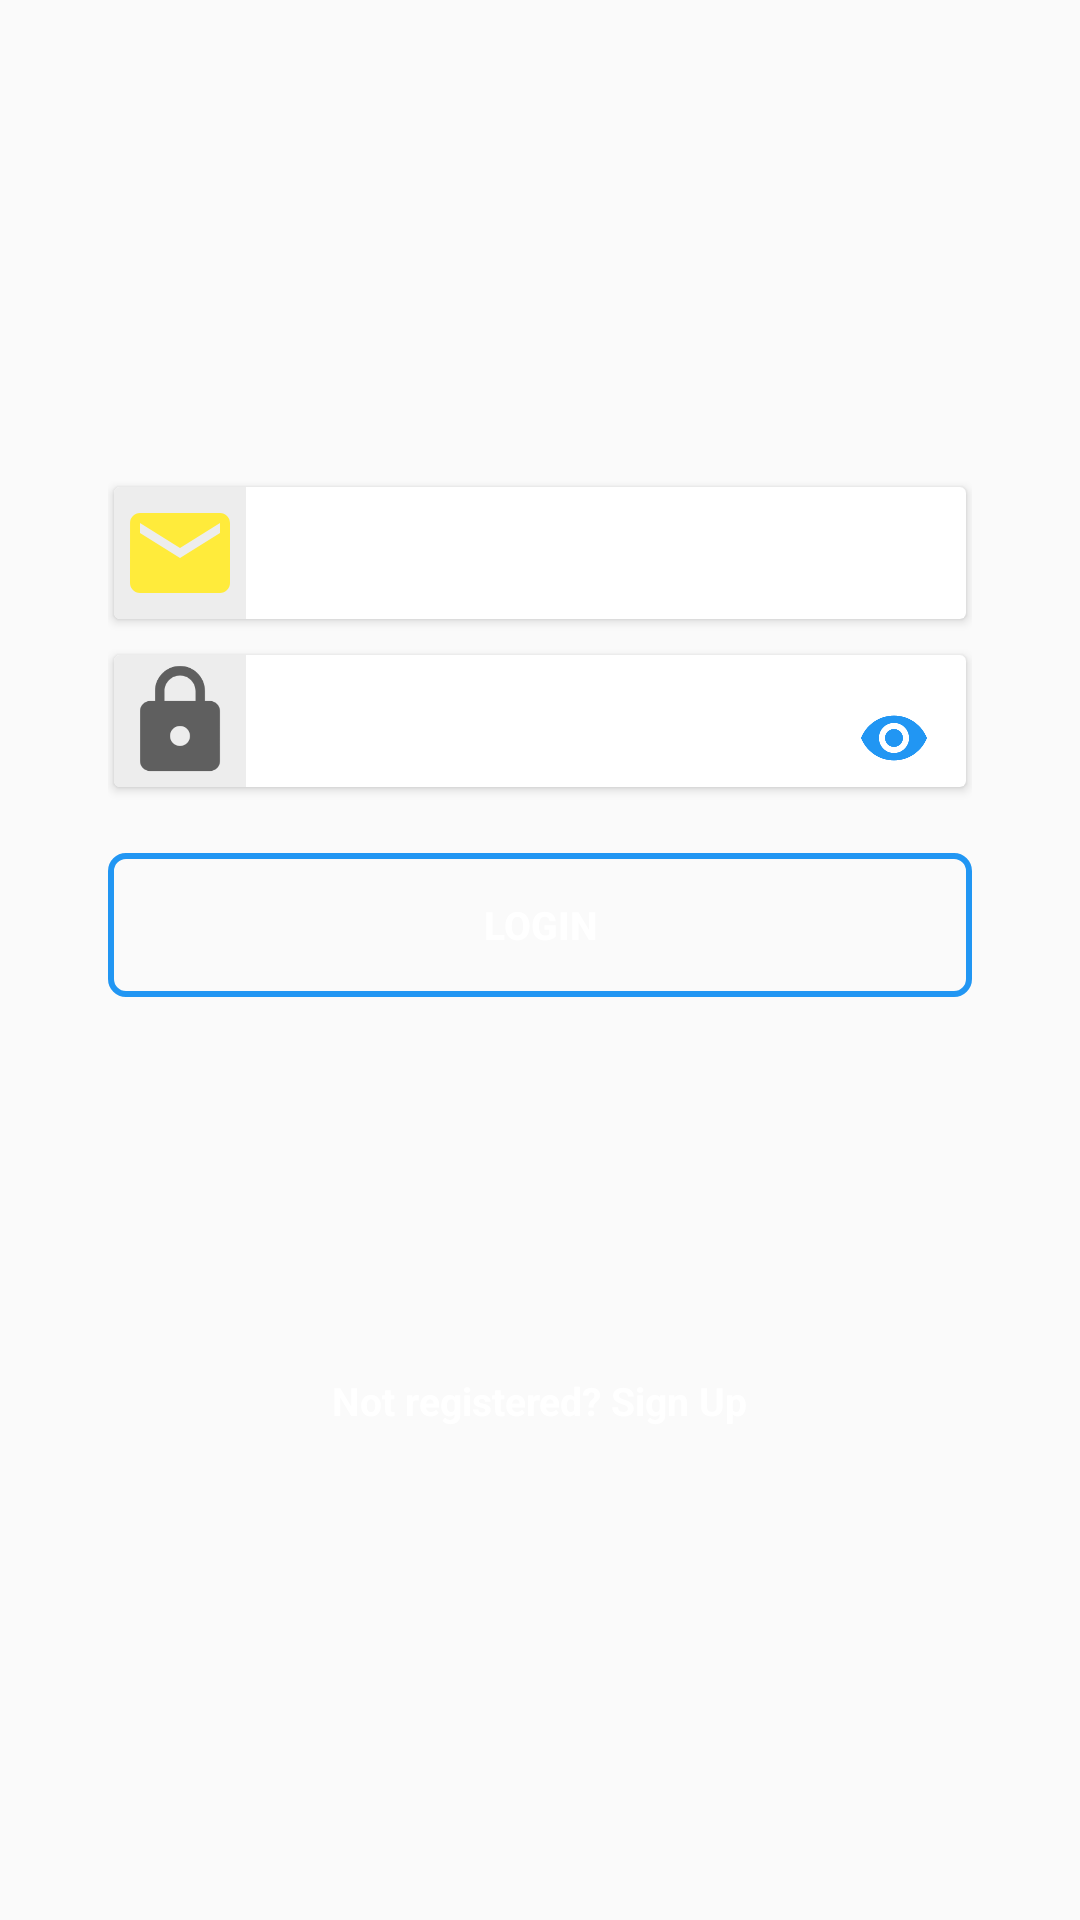

Screen size 1080 × 1920. Icon name, then its box in pixels as bbox=[x1, y1, x2, y2]:
email: bbox=[130, 513, 230, 593]
lock: bbox=[140, 666, 220, 771]
